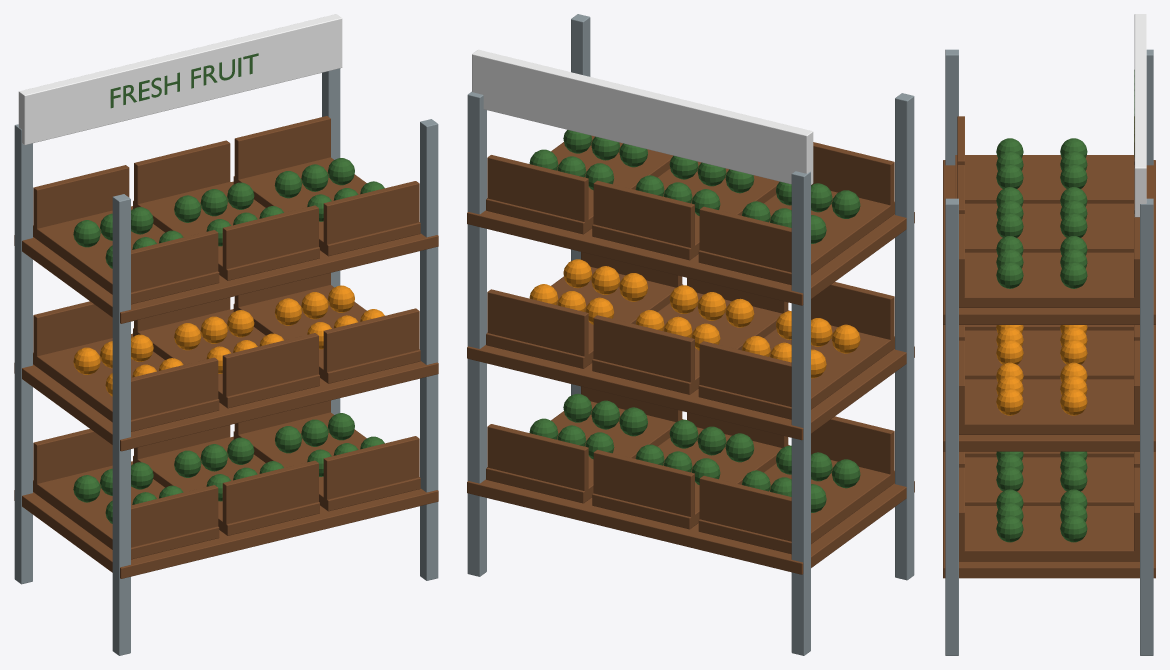
The model's file is fruit-display-rack.glb.
3 views of the same model, side by side, from view 1: azimuth 30°, elevation 25°; view 2: azimuth 150°, elevation 25°; view 3: azimuth 270°, elevation 25° (orthographic). The views are drawn at different scales.
Parts seen in each view (by area): view 1: Produce_Header, Post, Post.002, Post.001, Shelf.002, Shelf.001, Shelf, Crate_Base.001, Crate_Base.007, Crate_Base.004, Crate_Lip.015, Crate_Lip.003 (+24 smaller); view 2: Produce_Header, Post.001, Post, Post.003, Shelf.001, Shelf.002, Shelf, Crate_Lip.010, Crate_Lip.012, Crate_Lip, Crate_Lip.016, Crate_Lip.006 (+36 smaller); view 3: Crate_Base.006, Crate_Base.003, Crate_Base, Post.002, Post.003, Crate_Base.007, Crate_Base.005, Crate_Base.008, Crate_Base.002, Shelf.002, Shelf, Shelf.001 (+51 smaller).
Part boxes in pixels (<box>): Produce_Header: <box>18,14,342,145</box>; Post: <box>112,194,130,655</box>; Post.002: <box>420,119,438,580</box>; Post.001: <box>14,124,32,584</box>; Shelf.002: <box>14,174,438,323</box>; Shelf.001: <box>14,302,438,451</box>; Shelf: <box>14,429,438,578</box>; Crate_Base.001: <box>33,463,219,559</box>; Crate_Base.007: <box>33,208,219,304</box>; Crate_Base.004: <box>33,335,219,431</box>; Crate_Lip.015: <box>222,205,318,273</box>; Crate_Lip.003: <box>222,460,318,528</box>; Produce_Header: <box>472,49,813,184</box>; Post.001: <box>791,171,810,655</box>; Post: <box>895,93,914,580</box>; Post.003: <box>467,91,486,576</box>; Shelf.001: <box>467,276,914,440</box>; Shelf.002: <box>467,142,914,305</box>; Shelf: <box>467,411,914,574</box>; Crate_Lip.010: <box>593,315,694,386</box>; Crate_Lip.012: <box>487,289,588,359</box>; Crate_Lip: <box>487,155,588,225</box>; Crate_Lip.016: <box>593,180,694,252</box>; Crate_Lip.006: <box>487,424,588,493</box>; Crate_Base.006: <box>959,379,1139,434</box>; Crate_Base.003: <box>959,506,1139,561</box>; Crate_Base: <box>959,252,1139,307</box>; Post.002: <box>945,198,958,655</box>; Post.003: <box>1140,198,1153,655</box>; Crate_Base.007: <box>955,155,1133,203</box>; Crate_Base.005: <box>965,330,1133,379</box>; Crate_Base.008: <box>965,203,1133,252</box>; Crate_Base.002: <box>965,457,1133,505</box>; Shelf.002: <box>943,160,1155,324</box>; Shelf: <box>943,451,1155,578</box>; Shelf.001: <box>943,325,1155,451</box>.
Size of the model in its own units: 1.2 by 1.77 by 0.7.
